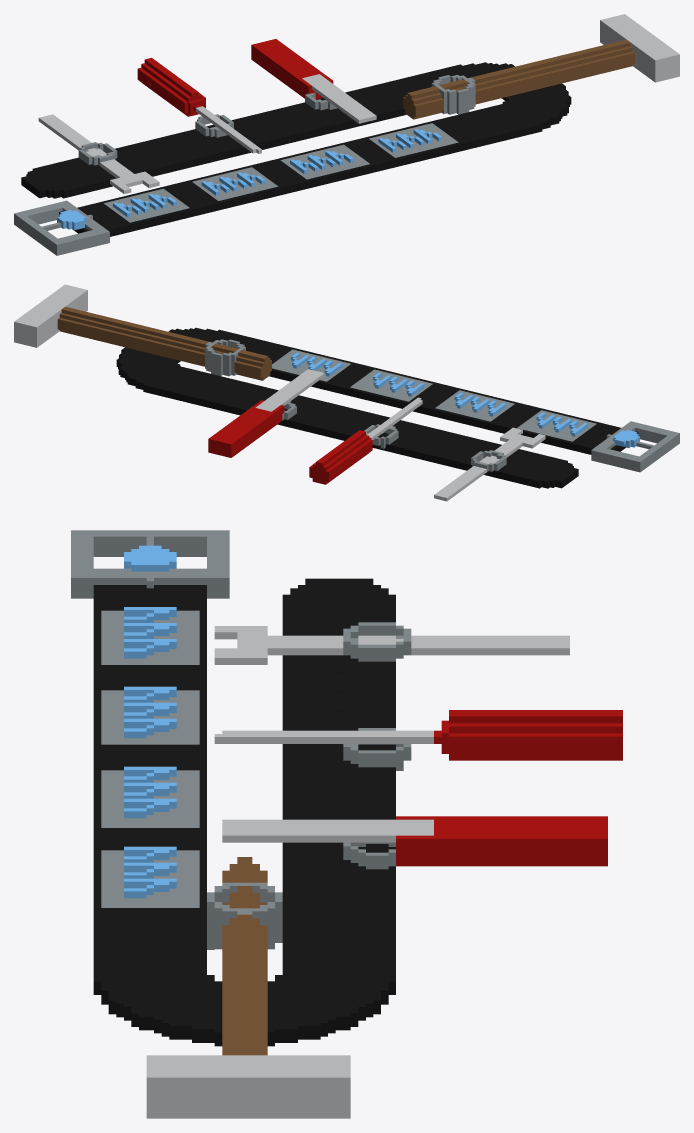
The model's file is mbelt_technomancer_toolbelt.glb.
3 renders of one model, top to bottom at view 1: azimuth 30°, elevation 25°; view 2: azimuth 150°, elevation 25°; view 3: azimuth 270°, elevation 25°, orthographic. The views are drawn at different scales.
Visible parts, largest first — view 1: mbelt_technomancer_toolbelt:compound; view 2: mbelt_technomancer_toolbelt:compound; view 3: mbelt_technomancer_toolbelt:compound.
Boxes of the visible parts, bbox=[...] form: mbelt_technomancer_toolbelt:compound: bbox=[14, 14, 679, 255]; mbelt_technomancer_toolbelt:compound: bbox=[14, 284, 679, 501]; mbelt_technomancer_toolbelt:compound: bbox=[71, 530, 622, 1118].
Bounding box in the file's own units: 0.728 × 0.032 × 0.292.
